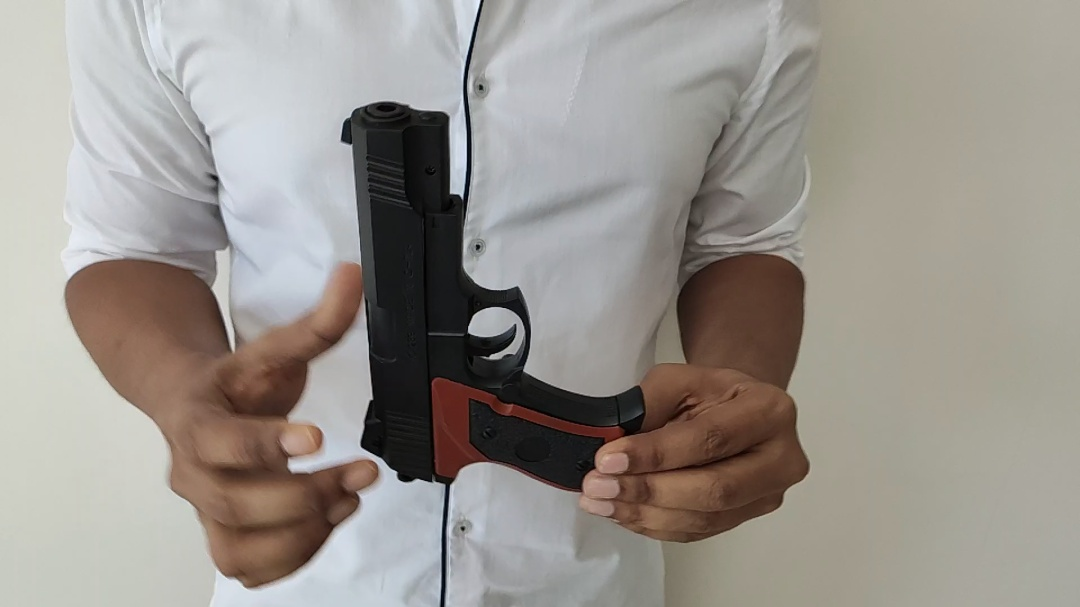gun: (341, 100, 647, 492)
